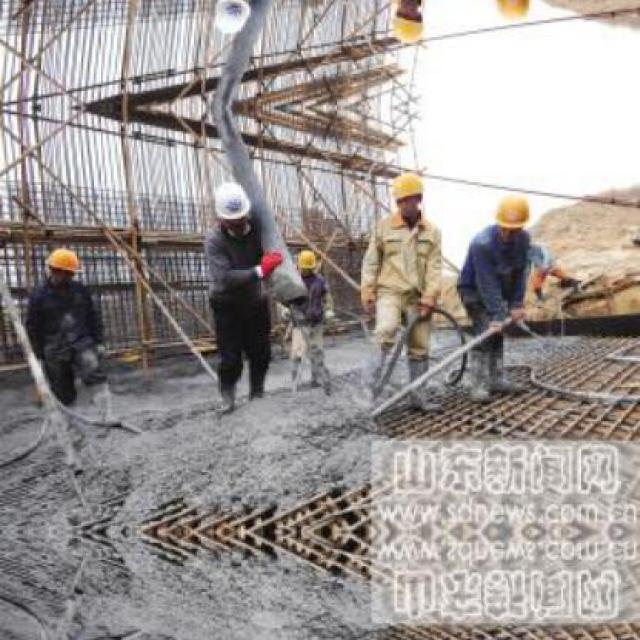helmet: (489, 190, 533, 237), (390, 169, 428, 221), (391, 0, 429, 48), (213, 180, 249, 226), (42, 247, 82, 288), (212, 0, 250, 37), (488, 0, 534, 26), (292, 246, 317, 280)
